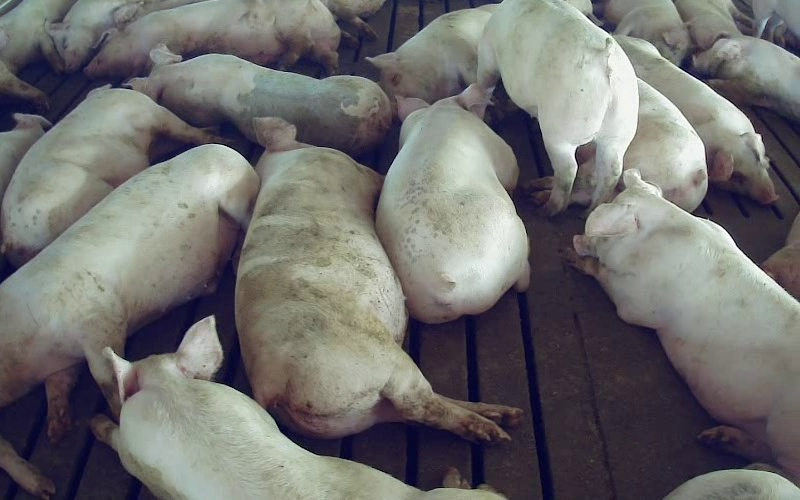pig: (235, 119, 517, 440), (92, 316, 505, 499), (0, 145, 258, 437), (574, 170, 799, 480), (2, 85, 220, 266), (376, 84, 528, 322), (477, 0, 638, 214), (128, 44, 391, 155), (614, 35, 777, 204), (84, 0, 340, 79), (366, 4, 496, 103), (623, 79, 707, 211), (692, 36, 799, 122), (604, 0, 690, 65), (674, 0, 752, 50)
